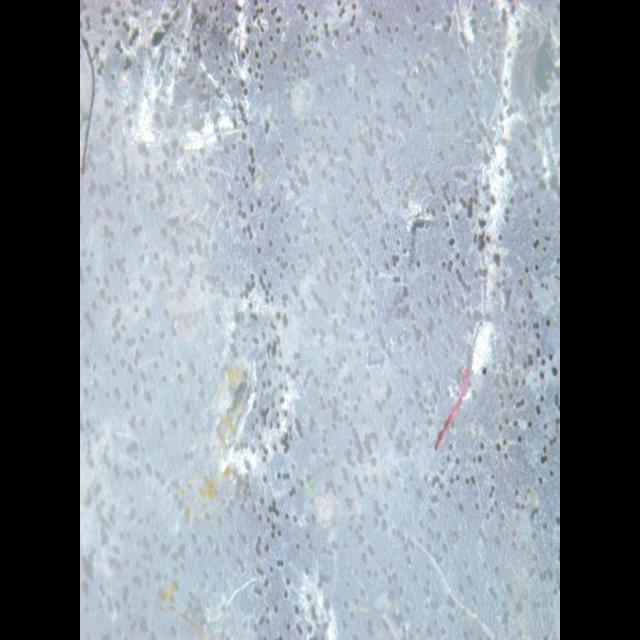Fibre: (430, 360, 472, 460), (80, 32, 104, 176)
